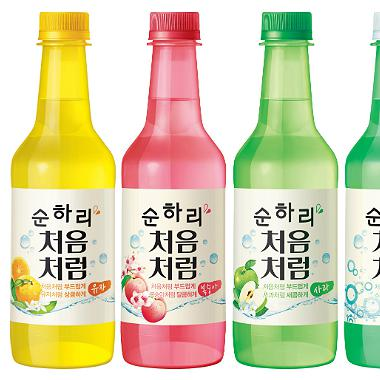soju: (9, 9, 380, 371)
